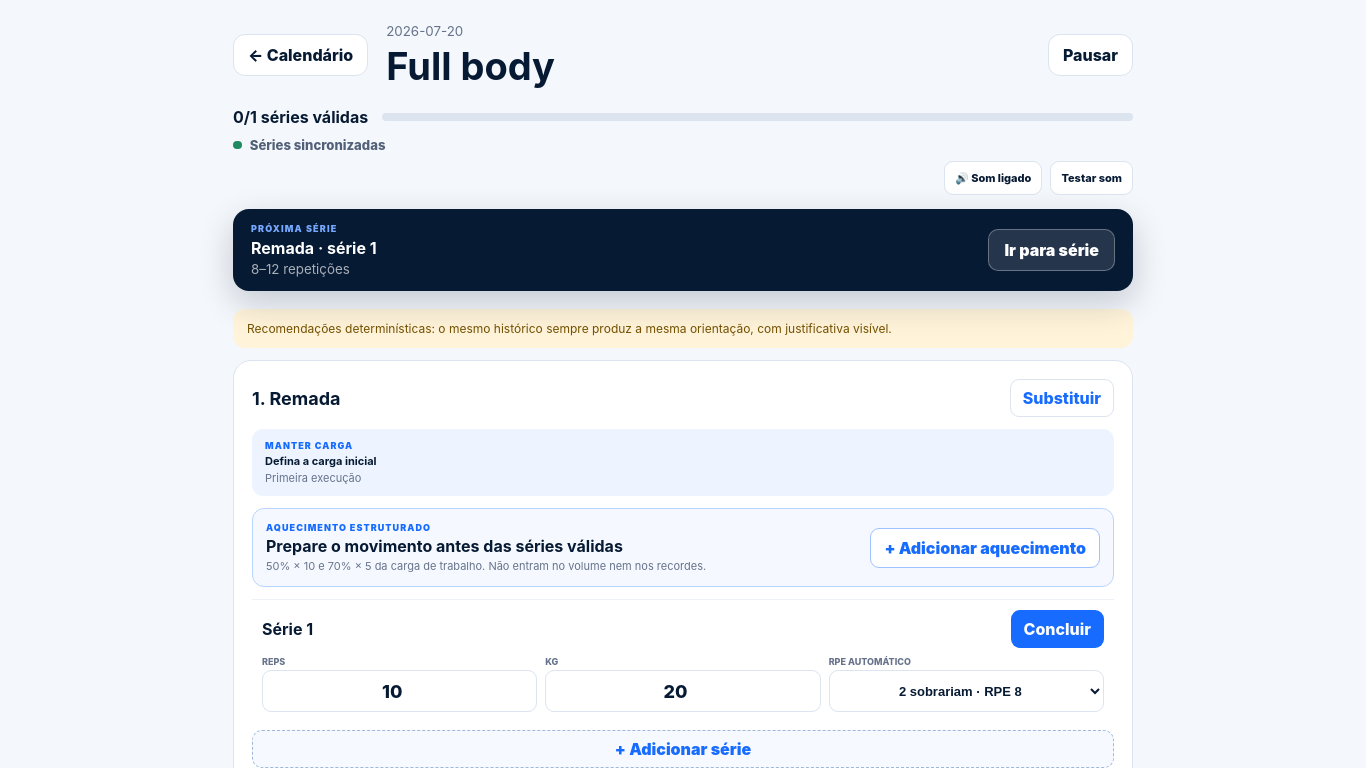
Scenario: percurso principal do treino › permite substituir um exercício com candidatos válidos
This screenshot has width=1366, height=768.
Click the button "Substituir".
click(1062, 398)  # box [1010,379,1114,417]
(page scrolled)
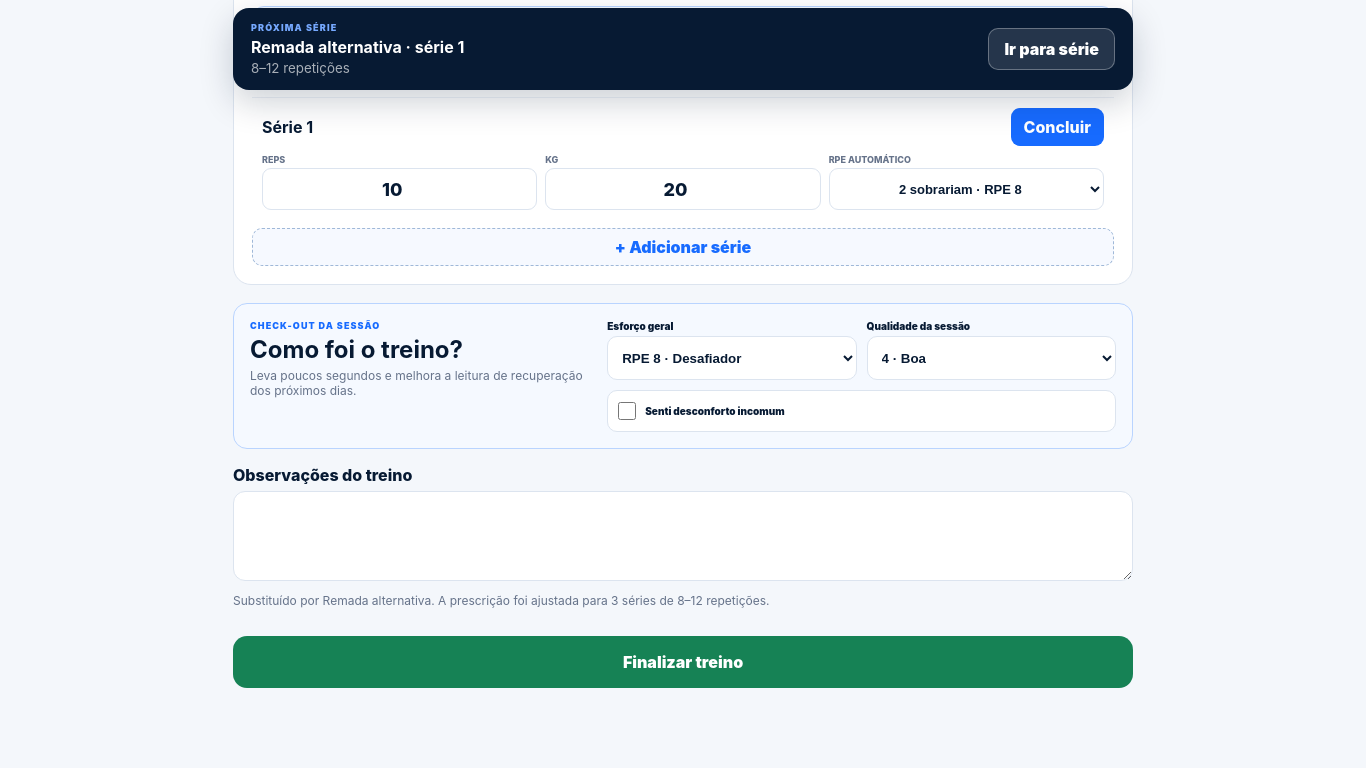
expect the text "Substituído por Remada alternativa" is shown: met, box [233,593,770,608]
